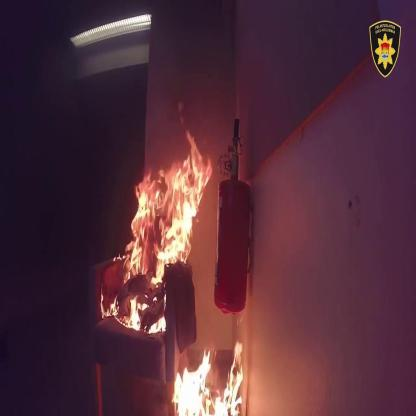Fire: (114, 100, 205, 312), (174, 351, 248, 415)
